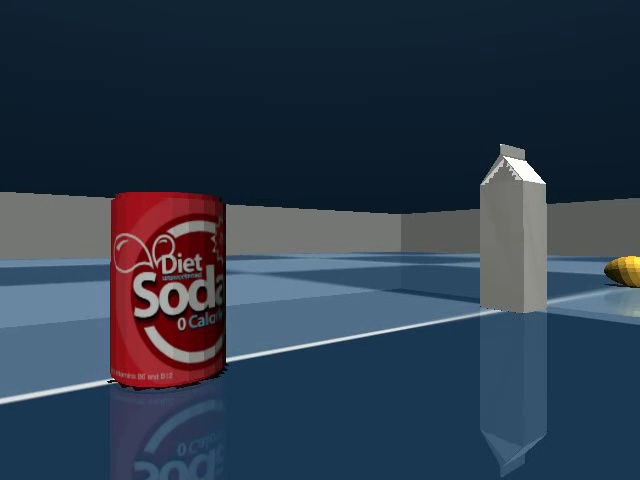can: (100, 183, 239, 401)
lemon: (598, 249, 640, 294)
milk: (470, 134, 558, 324)
